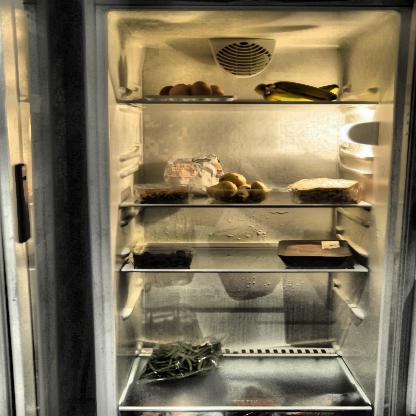banana: (254, 80, 341, 104)
blueberries: (135, 249, 191, 270)
chicken: (281, 241, 346, 259)
eggs: (156, 78, 229, 98)
green_beans: (137, 341, 223, 384)
potato: (206, 172, 271, 202)
shrimp: (138, 184, 193, 201)
